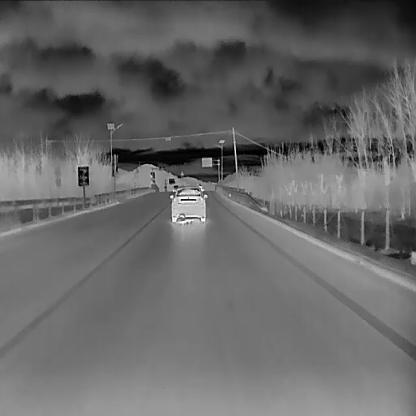car: (169, 185, 208, 222)
